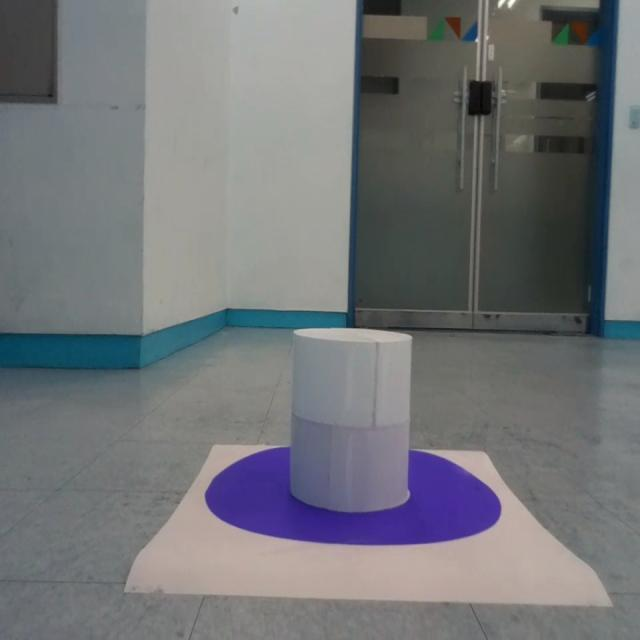cylinder: (290, 326, 413, 514)
